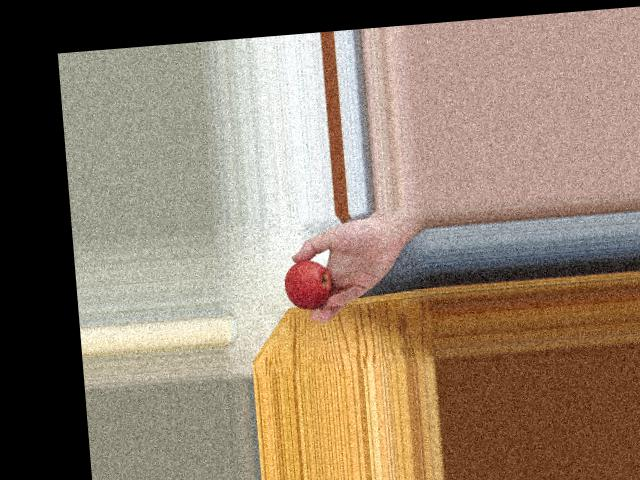apple: (280, 261, 333, 312)
